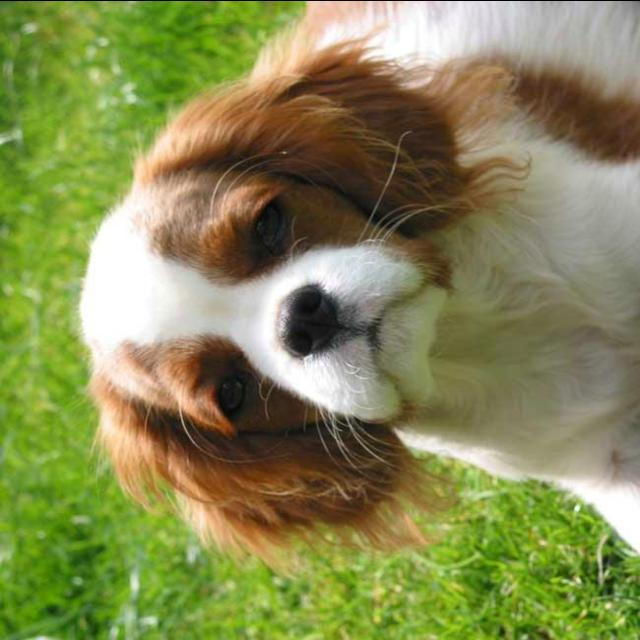blenheim_spaniel: (73, 1, 638, 591)
